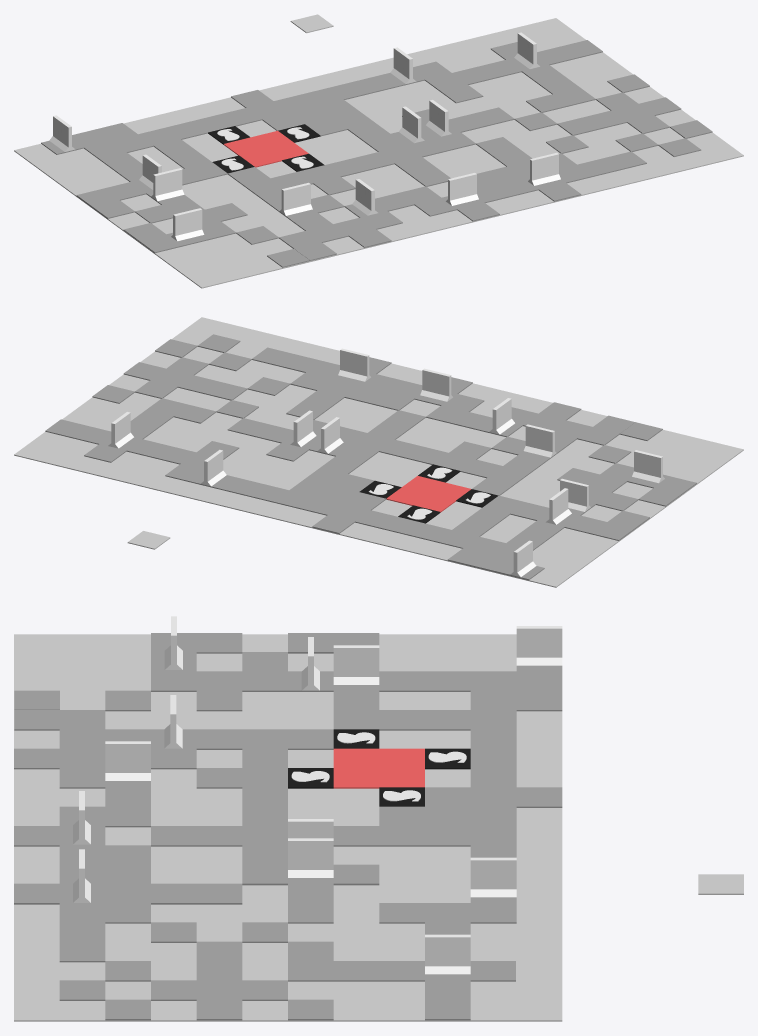
The model's file is 보드게임 수정판3D 02.fbx.
3 views of the same model, one above another, from view 1: azimuth 30°, elevation 25°; view 2: azimuth 150°, elevation 25°; view 3: azimuth 270°, elevation 25° (orthographic). The views are drawn at different scales.
Parts seen in each view (by area): view 1: Group2, Group1, Group8, Group7, Group9, Group11, Group12, fd64, fd_1_1, fd110, fd75, fd91 (+51 smaller); view 2: Group2, Group1, Group11, Group12, Group7, Group9, Group8, fd_1_1, fd42, fd43, Group4, Group5 (+71 smaller); view 3: Group2, Group1, Group14, Group13, Group5, Group6, Group4, Group10, fd77, fd33, fd50, fd76 (+95 smaller).
Part boxes in pixels (x1,y1,x2,y2): Group2: [14, 18, 743, 288]; Group1: [223, 130, 308, 167]; Group8: [153, 168, 182, 199]; Group7: [281, 182, 310, 213]; Group9: [173, 208, 202, 239]; Group11: [448, 173, 476, 204]; Group12: [530, 152, 558, 183]; fd64: [348, 229, 391, 247]; fd_1_1: [290, 14, 333, 33]; fd110: [538, 182, 581, 201]; fd75: [457, 202, 499, 221]; fd91: [627, 115, 669, 133]; Group2: [14, 317, 743, 587]; Group1: [386, 475, 471, 512]; Group11: [422, 368, 451, 399]; Group12: [340, 348, 369, 379]; Group7: [525, 424, 554, 455]; Group9: [634, 450, 662, 481]; Group8: [560, 478, 588, 509]; fd_1_1: [127, 531, 170, 549]; fd42: [638, 487, 681, 506]; fd43: [591, 522, 634, 540]; Group4: [293, 410, 312, 446]; Group5: [513, 540, 532, 576]; Group2: [14, 634, 562, 1021]; Group1: [333, 748, 424, 788]; Group14: [470, 857, 516, 889]; Group13: [425, 934, 470, 966]; Group5: [516, 626, 562, 657]; Group6: [333, 645, 379, 676]; Group4: [288, 838, 333, 869]; Group10: [105, 741, 150, 772]; fd77: [196, 883, 242, 904]; fd33: [196, 690, 242, 711]; fd50: [516, 690, 562, 711]; fd76: [333, 864, 379, 885].
Bounding box in the file's own units: 6000 × 280 × 4794.
